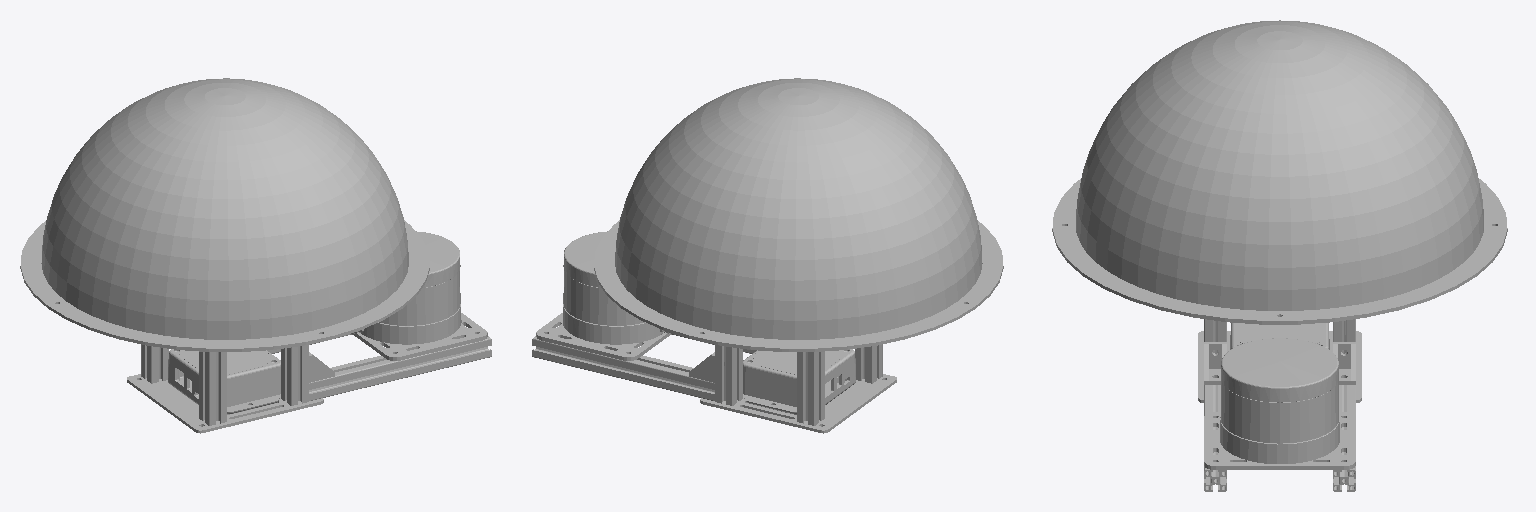
robot.urdf — wamv_nycu_description:
<?xml version="1.0" encoding="utf-8"?>
<!-- This URDF was automatically created by SolidWorks to URDF Exporter! Originally created by [author] ([email redacted]) 
     Commit Version: 1.6.0-4-g7f85cfe  Build Version: 1.6.7995.38578
     For more information, please see http://wiki.ros.org/sw_urdf_exporter -->
<robot
  name="wamv_nycu_description">
  <link
    name="base_link">
    <inertial>
      <origin
        xyz="-0.14028 3.7755E-05 0.25989"
        rpy="0 0 0" />
      <mass
        value="1299.7" />
      <inertia
        ixx="31.631"
        ixy="-0.16113"
        ixz="-30.638"
        iyy="868.3"
        iyz="-0.0017548"
        izz="868.5" />
    </inertial>
    <visual>
      <origin
        xyz="0 0 0"
        rpy="0 0 0" />
      <geometry>
        <mesh
          filename="package://wamv_nycu_description/meshes/base_link.STL" />
      </geometry>
      <material
        name="">
        <color
          rgba="0.75294 0.75294 0.75294 1" />
      </material>
    </visual>
    <collision>
      <origin
        xyz="0 0 0"
        rpy="0 0 0" />
      <geometry>
        <mesh
          filename="package://wamv_nycu_description/meshes/base_link.STL" />
      </geometry>
    </collision>
  </link>
  <link
    name="zed_left_link">
    <inertial>
      <origin
        xyz="-0.074894 -0.058828 -0.068757"
        rpy="0 0 0" />
      <mass
        value="12.256" />
      <inertia
        ixx="0.096819"
        ixy="6.7396E-07"
        ixz="-0.010605"
        iyy="0.094314"
        iyz="5.9641E-07"
        izz="0.14491" />
    </inertial>
    <visual>
      <origin
        xyz="0 0 0"
        rpy="0 0 0" />
      <geometry>
        <mesh
          filename="package://wamv_nycu_description/meshes/zed_left_link.STL" />
      </geometry>
      <material
        name="">
        <color
          rgba="0.75294 0.75294 0.75294 1" />
      </material>
    </visual>
    <collision>
      <origin
        xyz="0 0 0"
        rpy="0 0 0" />
      <geometry>
        <mesh
          filename="package://wamv_nycu_description/meshes/zed_left_link.STL" />
      </geometry>
    </collision>
  </link>
  <joint
    name="zed_left_joint"
    type="fixed">
    <origin
      xyz="0.77964 0.45698 1.5612"
      rpy="0 0.20769 0.5236" />
    <parent
      link="base_link" />
    <child
      link="zed_left_link" />
    <axis
      xyz="0 0 0" />
  </joint>
  <link
    name="zed_mid_link">
    <inertial>
      <origin
        xyz="-0.074894 -0.058828 -0.068757"
        rpy="0 0 0" />
      <mass
        value="12.256" />
      <inertia
        ixx="0.096819"
        ixy="6.7396E-07"
        ixz="-0.010605"
        iyy="0.094314"
        iyz="5.9641E-07"
        izz="0.14491" />
    </inertial>
    <visual>
      <origin
        xyz="0 0 0"
        rpy="0 0 0" />
      <geometry>
        <mesh
          filename="package://wamv_nycu_description/meshes/zed_mid_link.STL" />
      </geometry>
      <material
        name="">
        <color
          rgba="0.75294 0.75294 0.75294 1" />
      </material>
    </visual>
    <collision>
      <origin
        xyz="0 0 0"
        rpy="0 0 0" />
      <geometry>
        <mesh
          filename="package://wamv_nycu_description/meshes/zed_mid_link.STL" />
      </geometry>
    </collision>
  </link>
  <joint
    name="zed_mid_joint"
    type="fixed">
    <origin
      xyz="0.97872 0.058938 1.5612"
      rpy="0 0 0" />
    <parent
      link="base_link" />
    <child
      link="zed_mid_link" />
    <axis
      xyz="0 0 0" />
  </joint>
  <link
    name="zed_right_link">
    <inertial>
      <origin
        xyz="-0.0748944036812395 -0.0588282968735234 -0.0687566849420334"
        rpy="0 0 0" />
      <mass
        value="12.2556458165284" />
      <inertia
        ixx="0.0968193834084378"
        ixy="6.73960782810595E-07"
        ixz="-0.0106047213816019"
        iyy="0.0943139176263281"
        iyz="5.96407675698164E-07"
        izz="0.144910346882433" />
    </inertial>
    <visual>
      <origin
        xyz="0 0 0"
        rpy="0 0 0" />
      <geometry>
        <mesh
          filename="package://wamv_nycu_description/meshes/zed_right_link.STL" />
      </geometry>
      <material
        name="">
        <color
          rgba="0.752941176470588 0.752941176470588 0.752941176470588 1" />
      </material>
    </visual>
    <collision>
      <origin
        xyz="0 0 0"
        rpy="0 0 0" />
      <geometry>
        <mesh
          filename="package://wamv_nycu_description/meshes/zed_right_link.STL" />
      </geometry>
    </collision>
  </link>
  <joint
    name="zed_right_joint"
    type="fixed">
    <origin
      xyz="0.83858 -0.35489 1.5612"
      rpy="0 0.20769 -0.5236" />
    <parent
      link="base_link" />
    <child
      link="zed_right_link" />
    <axis
      xyz="0 0 0" />
  </joint>
  <link
    name="velodyne_link">
    <inertial>
      <origin
        xyz="-0.188762487815318 -9.6644577284098E-07 0.122816024985303"
        rpy="0 0 0" />
      <mass
        value="12.7337859353388" />
      <inertia
        ixx="0.0948941866690778"
        ixy="-1.26547231096271E-07"
        ixz="1.89605624084633E-07"
        iyy="0.0950885725877562"
        iyz="1.30843936126773E-08"
        izz="0.147742361343186" />
    </inertial>
    <visual>
      <origin
        xyz="0 0 0"
        rpy="0 0 0" />
      <geometry>
        <mesh
          filename="package://wamv_nycu_description/meshes/velodyne_link.STL" />
      </geometry>
      <material
        name="">
        <color
          rgba="0.752941176470588 0.752941176470588 0.752941176470588 1" />
      </material>
    </visual>
    <collision>
      <origin
        xyz="0 0 0"
        rpy="0 0 0" />
      <geometry>
        <mesh
          filename="package://wamv_nycu_description/meshes/velodyne_link.STL" />
      </geometry>
    </collision>
  </link>
  <joint
    name="velodyne_joint"
    type="fixed">
    <origin
      xyz="1.5434 0.0002 1.0522"
      rpy="0 0 0" />
    <parent
      link="base_link" />
    <child
      link="velodyne_link" />
    <axis
      xyz="0 0 0" />
  </joint>
</robot>

--- Render facts (derived) ---
3 views of the same robot in one strip: view 1: azimuth 30°, elevation 25°; view 2: azimuth 150°, elevation 25°; view 3: azimuth 270°, elevation 25° (orthographic).
Model wamv_nycu_description with 5 links and 4 joints (4 fixed), rooted at base_link, posed every joint at zero.
Links seen in each view (by area): view 1: velodyne_link; view 2: velodyne_link; view 3: velodyne_link.
Boxes of the visible links, <box> form: velodyne_link: <box>20,78,491,433</box>; velodyne_link: <box>532,78,1003,433</box>; velodyne_link: <box>1052,20,1507,491</box>.
Size in the robot's own frame: 0.45 by 0.3897 by 0.311 metres.
1 mesh visuals loaded from 5 distinct referenced files (1 binary STL); not drawn: 4 (reference not matched to a file when rendering).